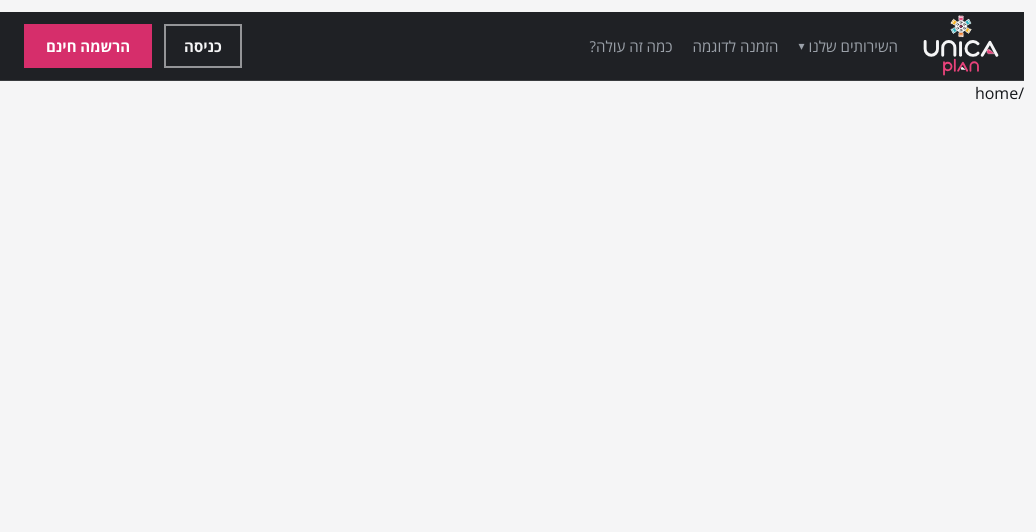
Test: site header — the services disclosure › following a link navigates and closes it
Click the button "השירותים שלנו ▾". click: (848, 46)
box: top-left (798, 35), bottom-right (898, 58)
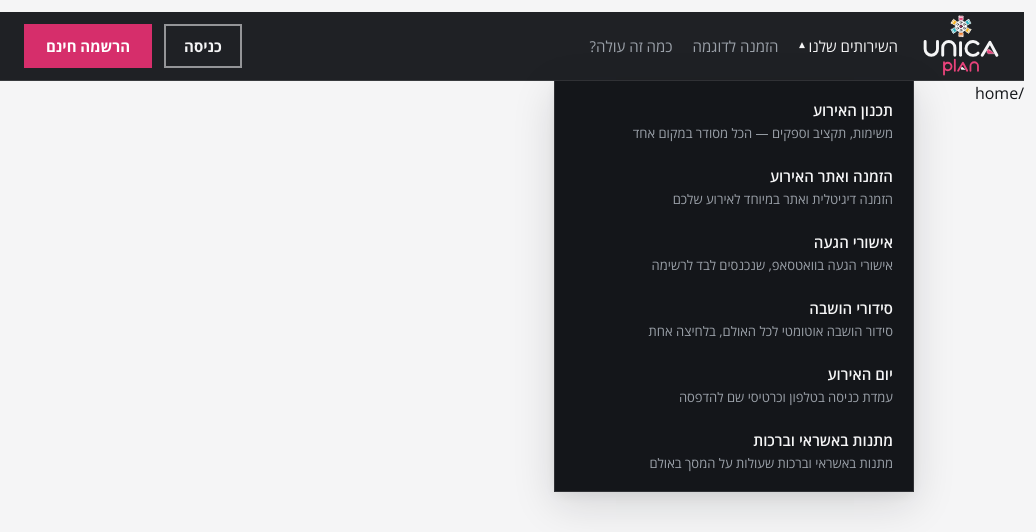
Click the link "מתנות באשראי וברכות מתנות באשראי וברכות שעולות על המסך באולם". click: (771, 451)
box: top-left (649, 430), bottom-right (893, 472)
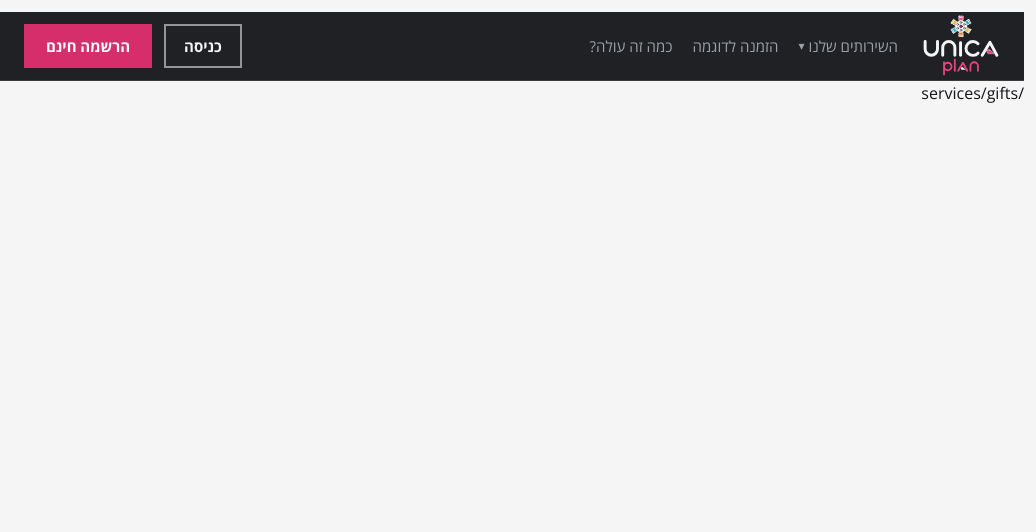
Now the text with test id "where" reads "/services/gifts", box top-left (921, 82), bottom-right (1024, 104)
Now the button "השירותים שלנו ▾" is collapsed, box top-left (798, 35), bottom-right (898, 58)
